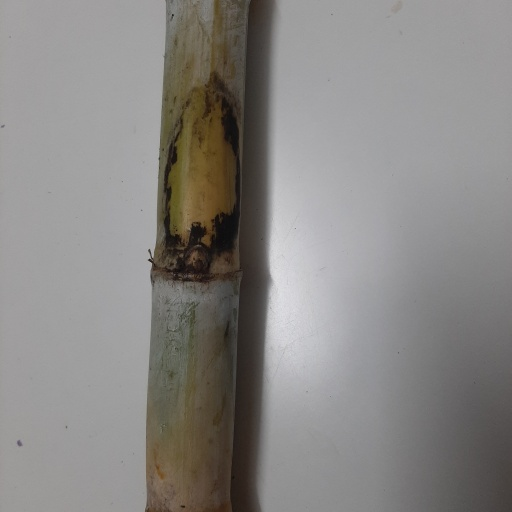Bud: (181, 243, 211, 274)
